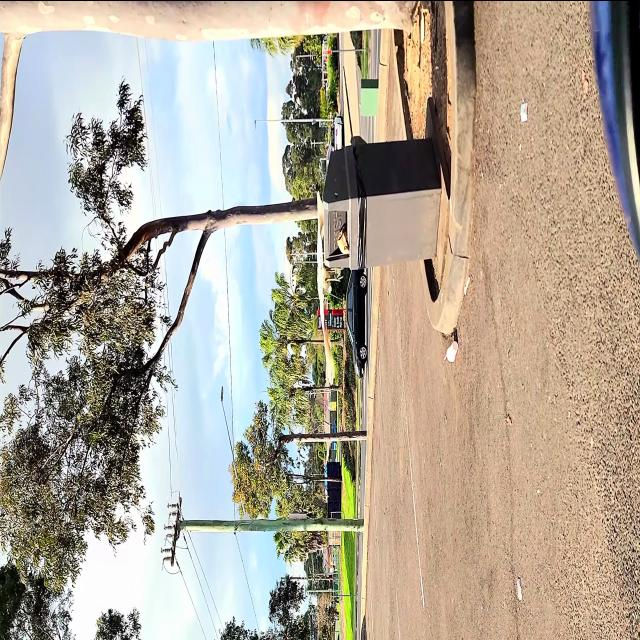Birds-Ibis: (314, 188, 344, 388)
